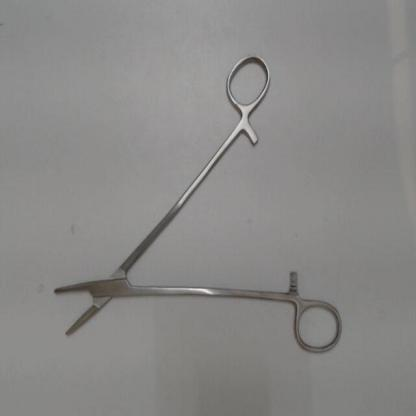8 Mayo Needle Holder: (42, 46, 348, 361)
